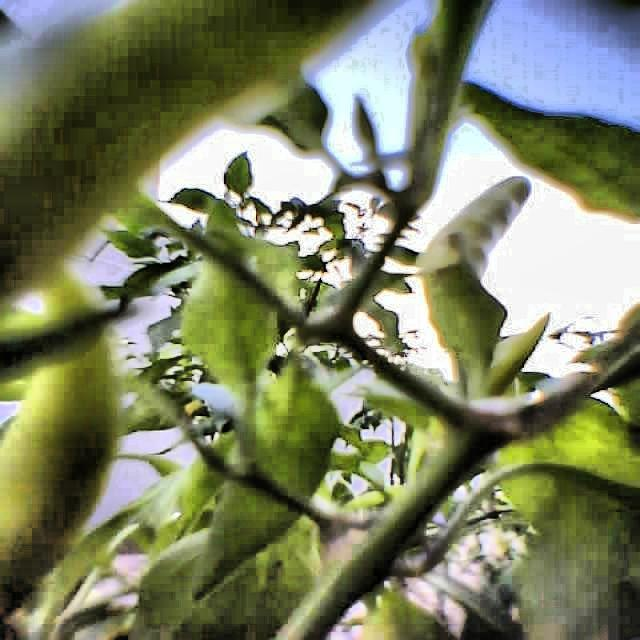Cabai: (0, 10, 355, 247), (0, 268, 127, 629), (406, 175, 523, 359)
